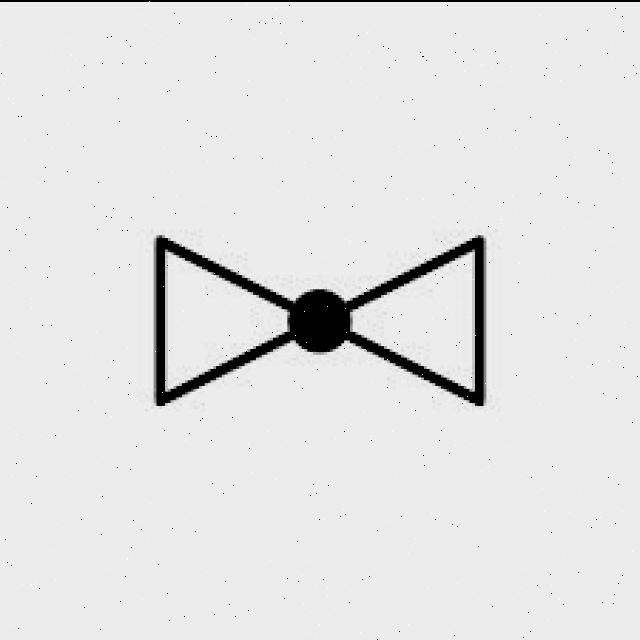Globe Valve: (103, 190, 548, 430)
